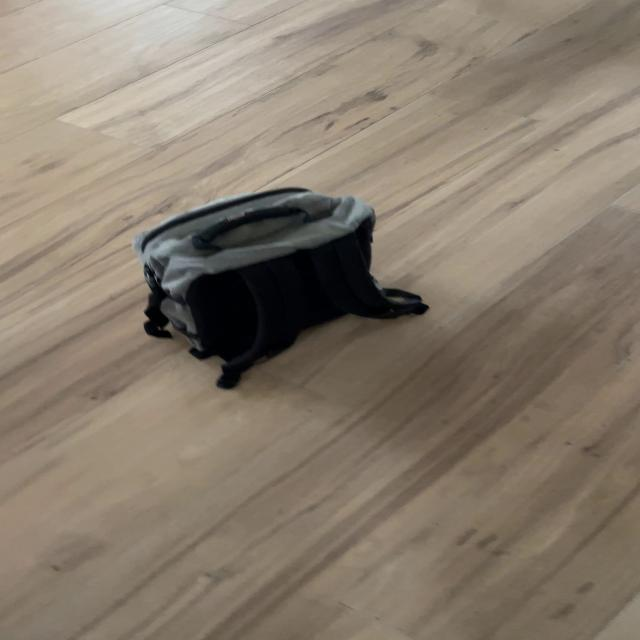backpack: (122, 176, 397, 386)
